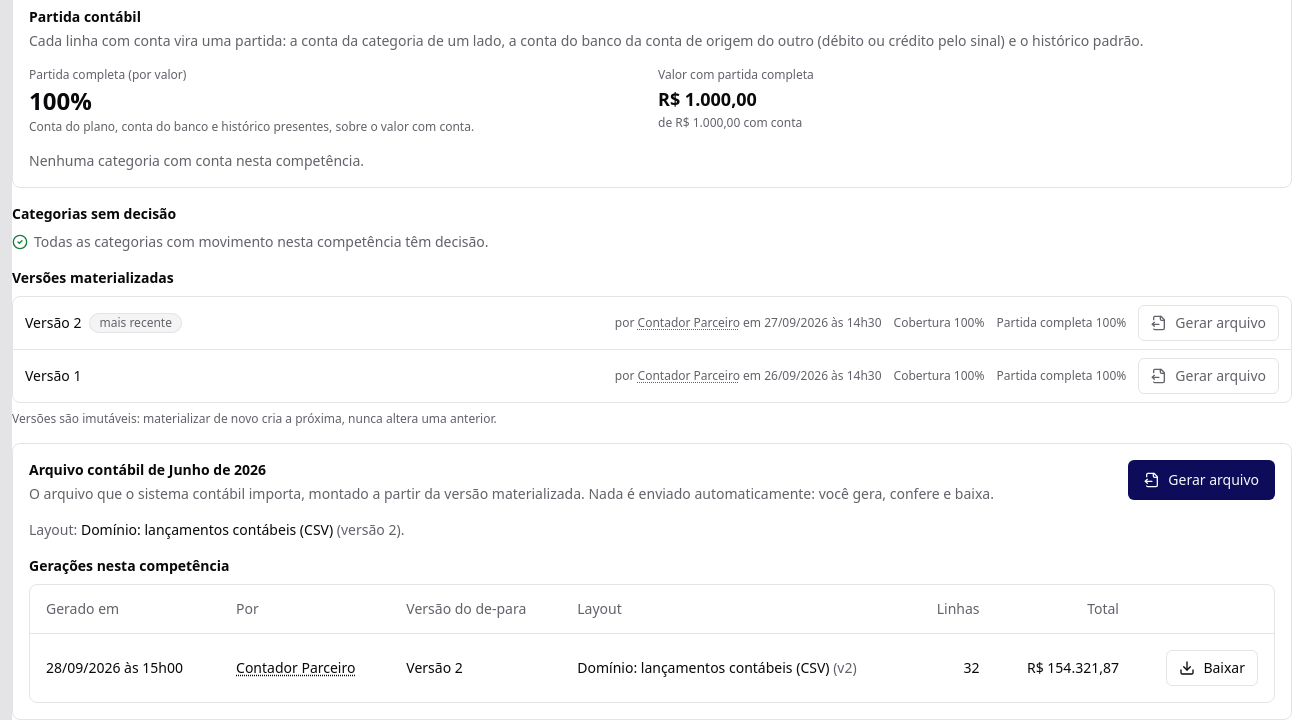
it: recusas 409 como ESTADO, nunca toast › a recusa da versão diz qual versão foi recusada
(page scrolled)
Click the button with aria-label "Gerar arquivo da versão 1".
click(1209, 376)  # box 1138,358 -> 1279,394
(page scrolled)
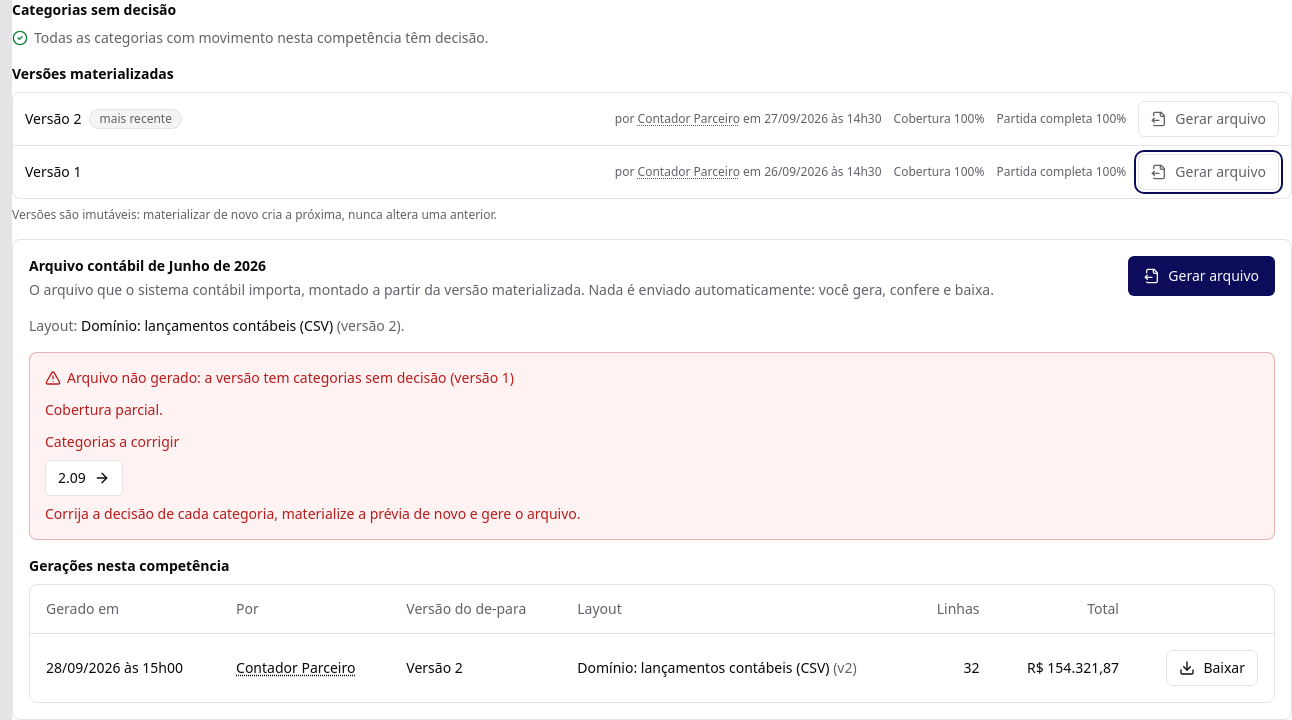
Expected: the message with test id "accounting-file-refusal" shows "(versão 1)", 446,368 -> 514,387
